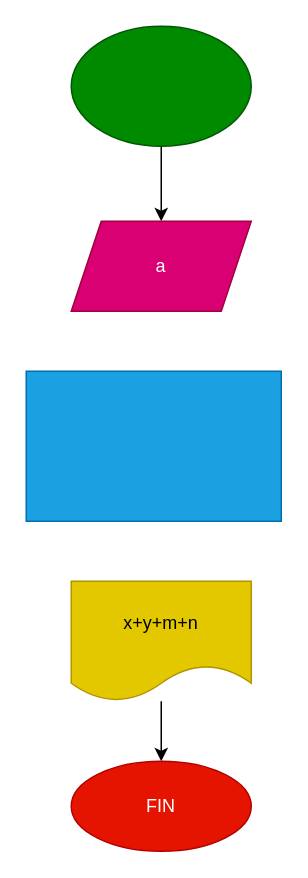
This 308x878 diagram has some shape labels left out. Each missing label, with the centre of its shape:
INICIO: the point at 160,85
x = a%100 y =((a%100)/10) m =(a%1000)/100) n = (a -(a%1000))/1000): the point at 153,445
